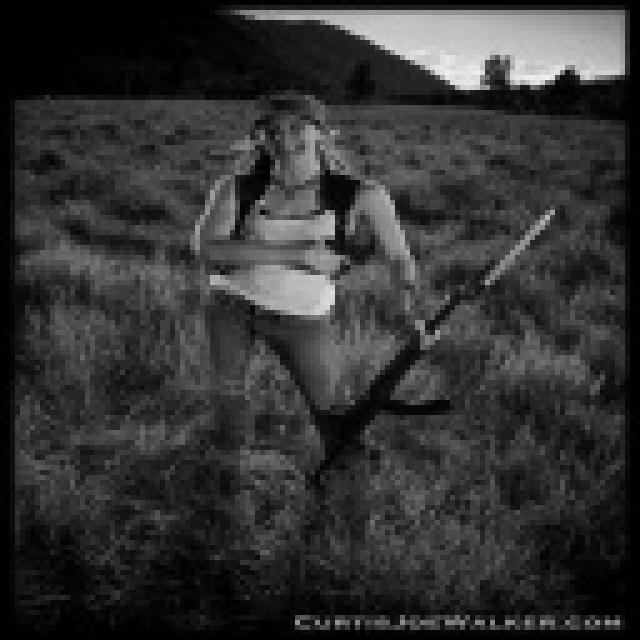Rifle: (287, 189, 573, 504)
